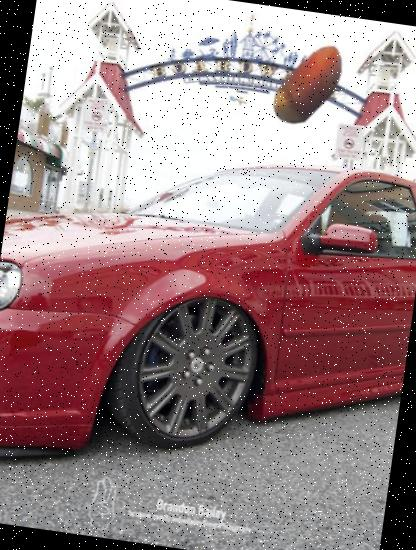Hazelnut: (258, 32, 364, 138)
